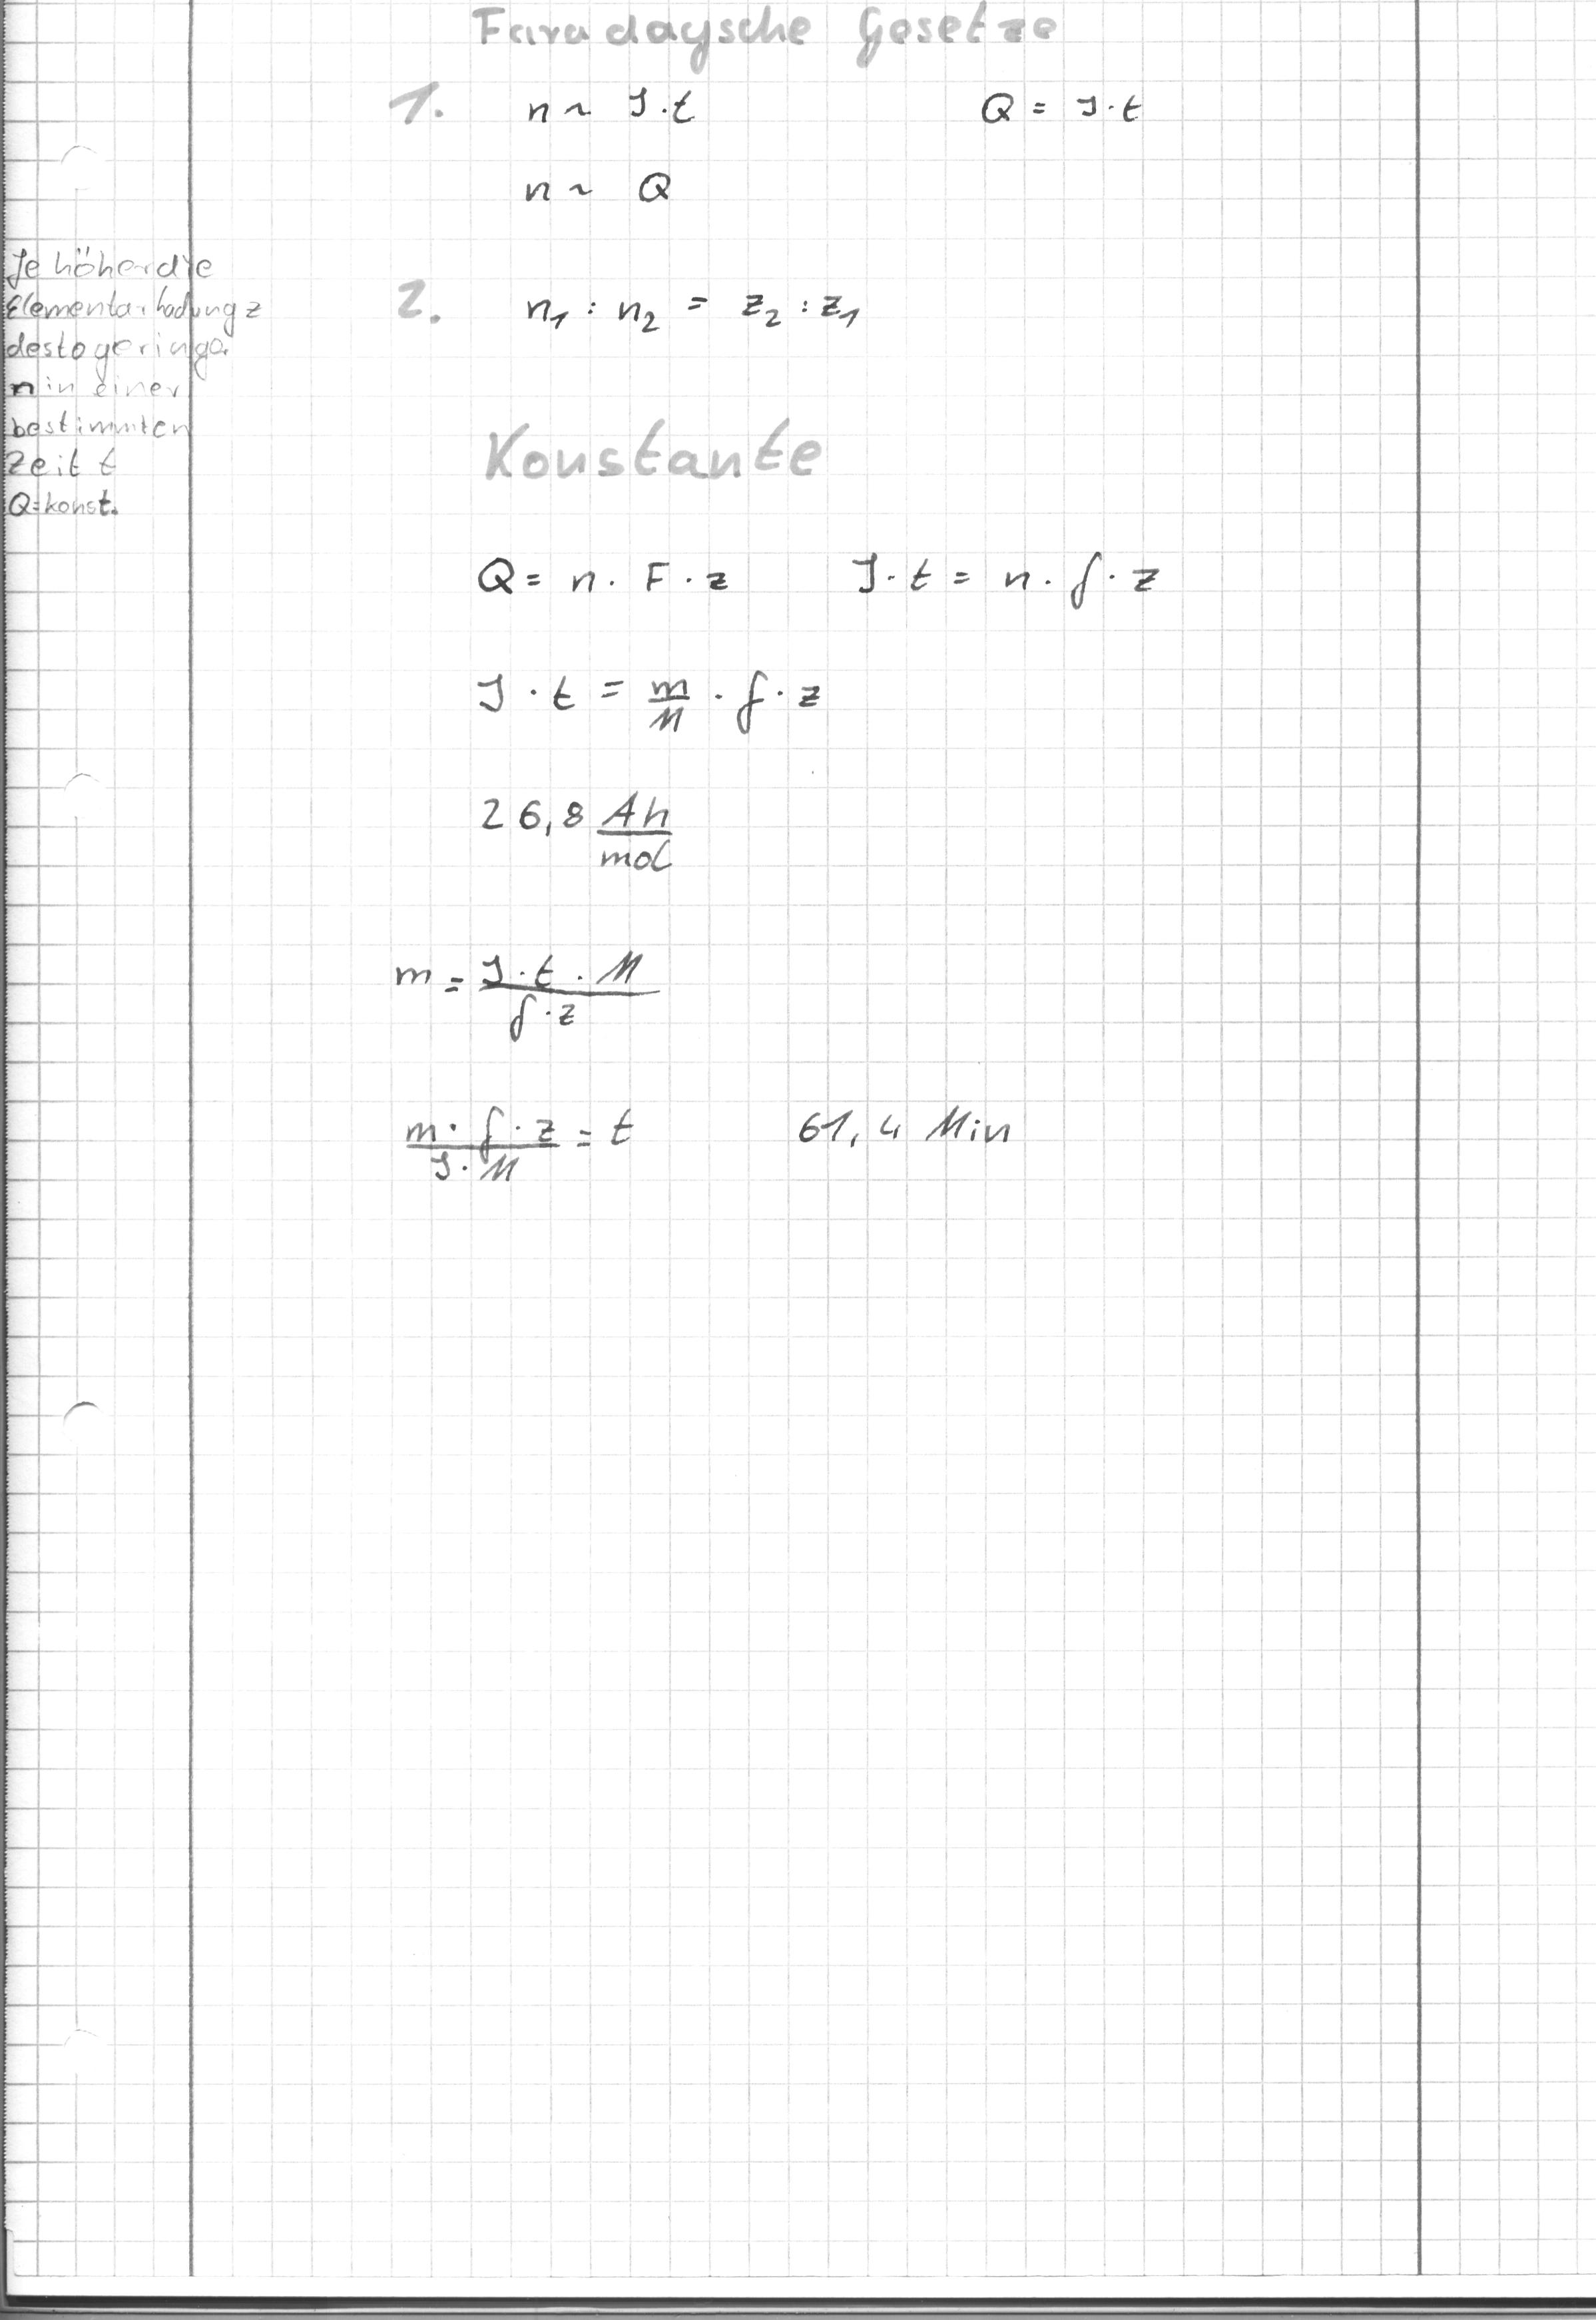word: (443, 523, 1180, 635), (459, 641, 831, 761), (376, 928, 673, 1064), (508, 264, 882, 359), (504, 75, 710, 227), (463, 772, 710, 891), (389, 1094, 654, 1205), (959, 61, 1164, 150), (764, 1091, 1022, 1161)
